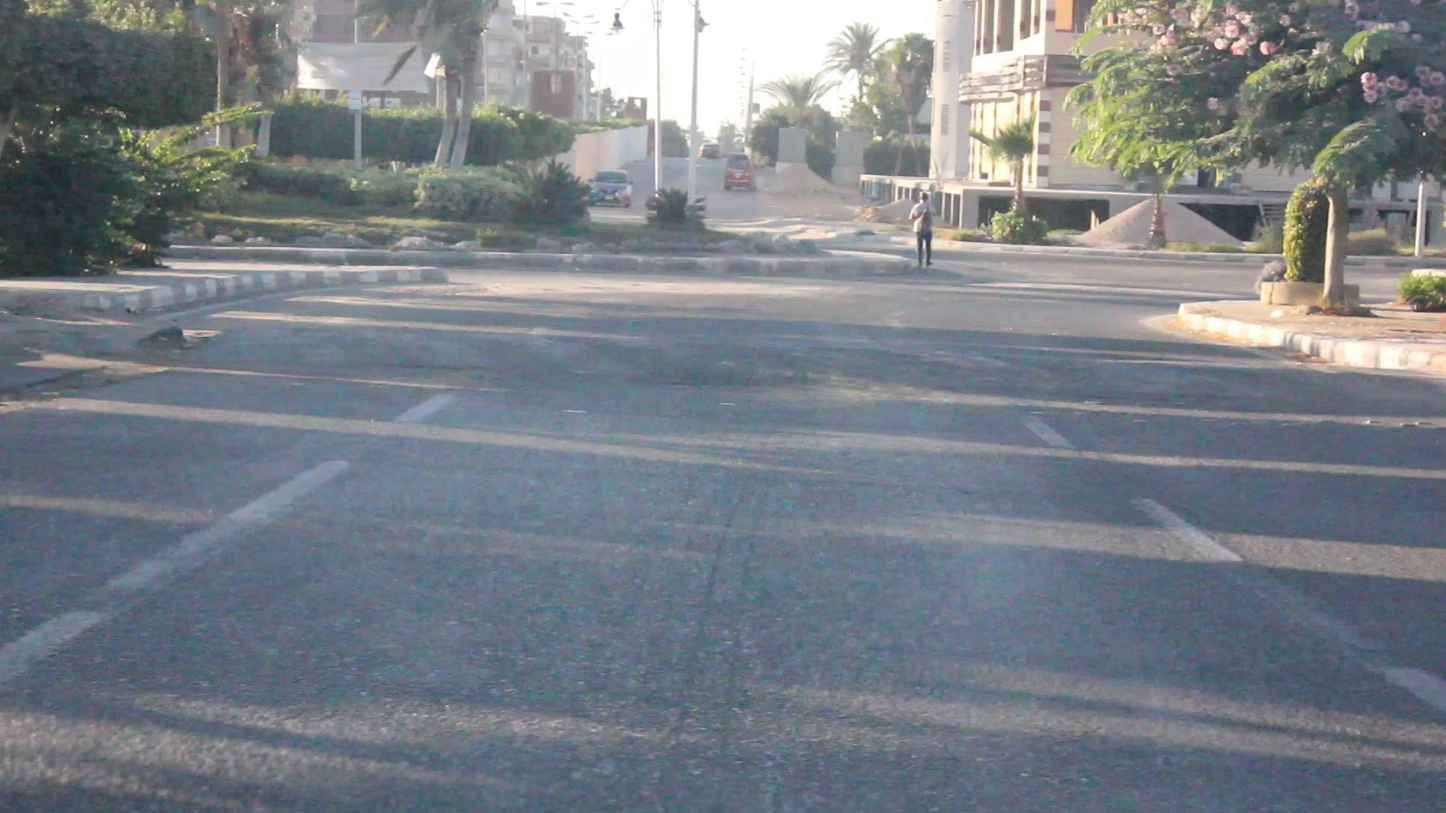Bump: (205, 316, 1335, 410)
